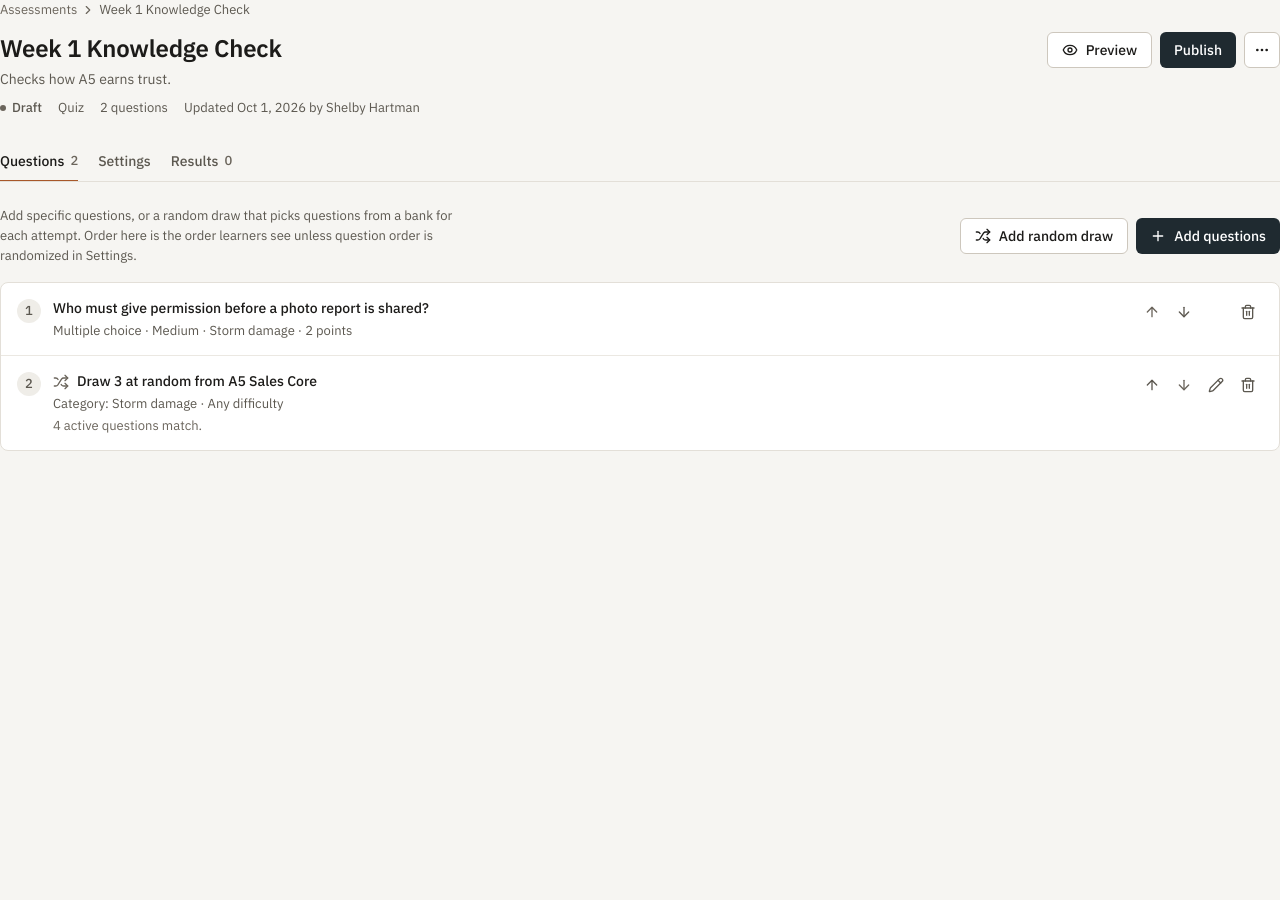
Test: AssessmentBuilderPage › publishing › publishes a draft after confirmation
Later steps or results of the test are not shown.
Click the button "Publish".
click(1198, 50)  # box [1160,32,1236,68]
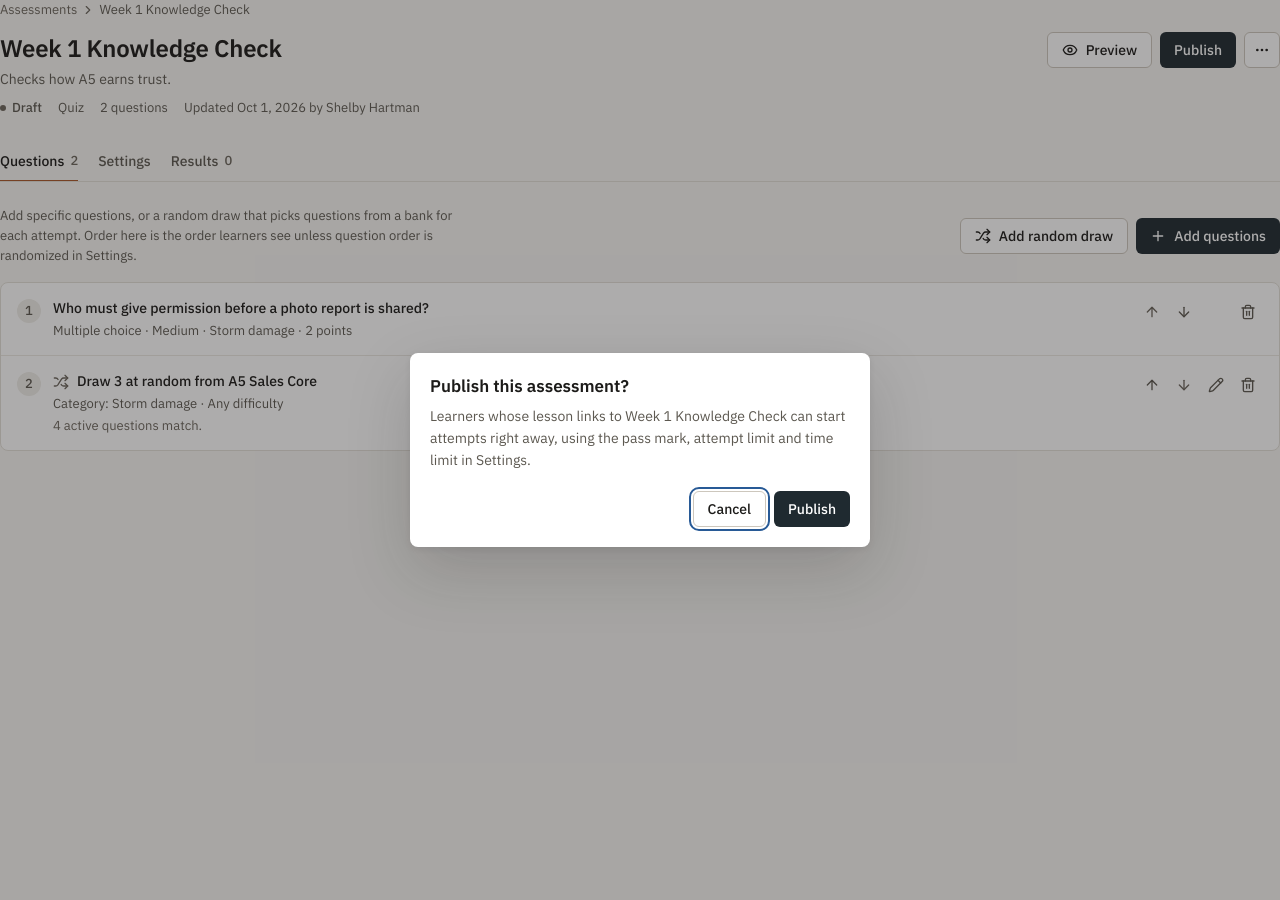
Now the dialog shows "Learners whose lesson links to Week 1 Knowledge Check can start attempts right away", box [430,407,845,469]
